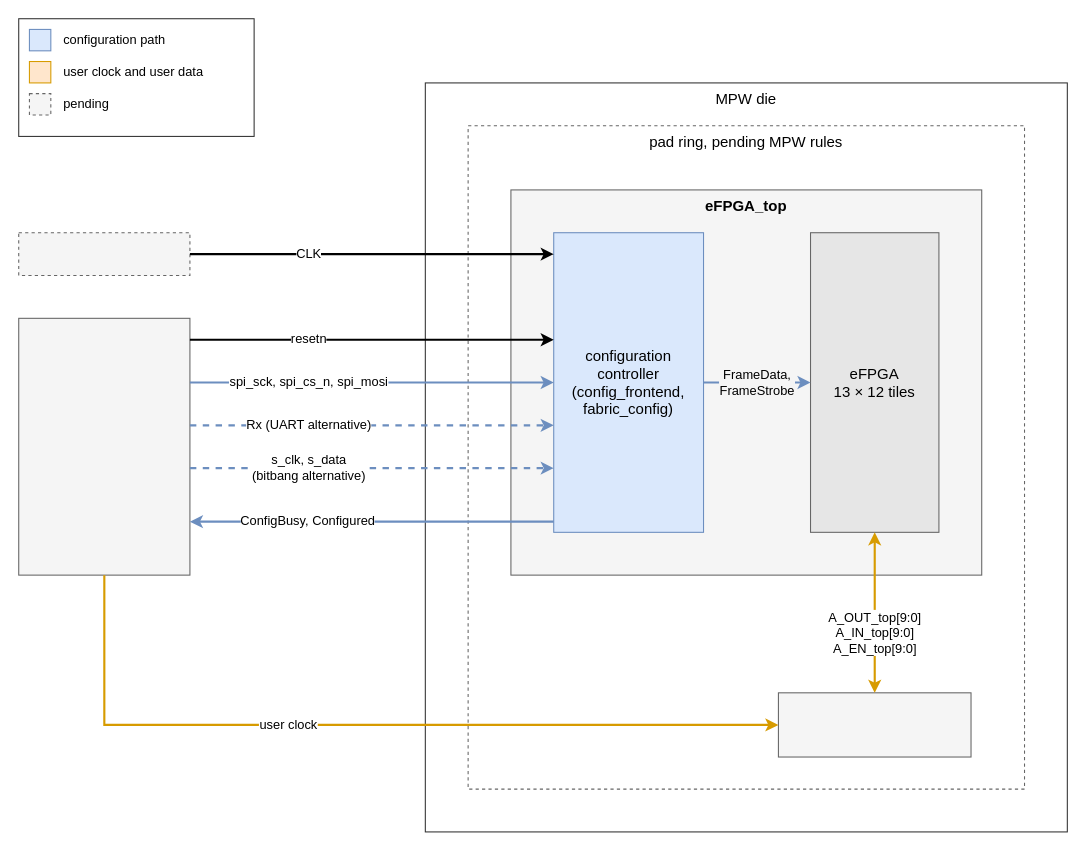
Some shapes in this 1086 by 851 pixel diagram are drawn without their labels. Each missing label, with the centre of its shape:
"10 bidirectional IO pads, SYS_RESET clock pad" belongs at (x=874, y=724).
"CLK source, pending" belongs at (x=104, y=254).
"Raspberry Pi Pico MicroPython" belongs at (x=104, y=446).
